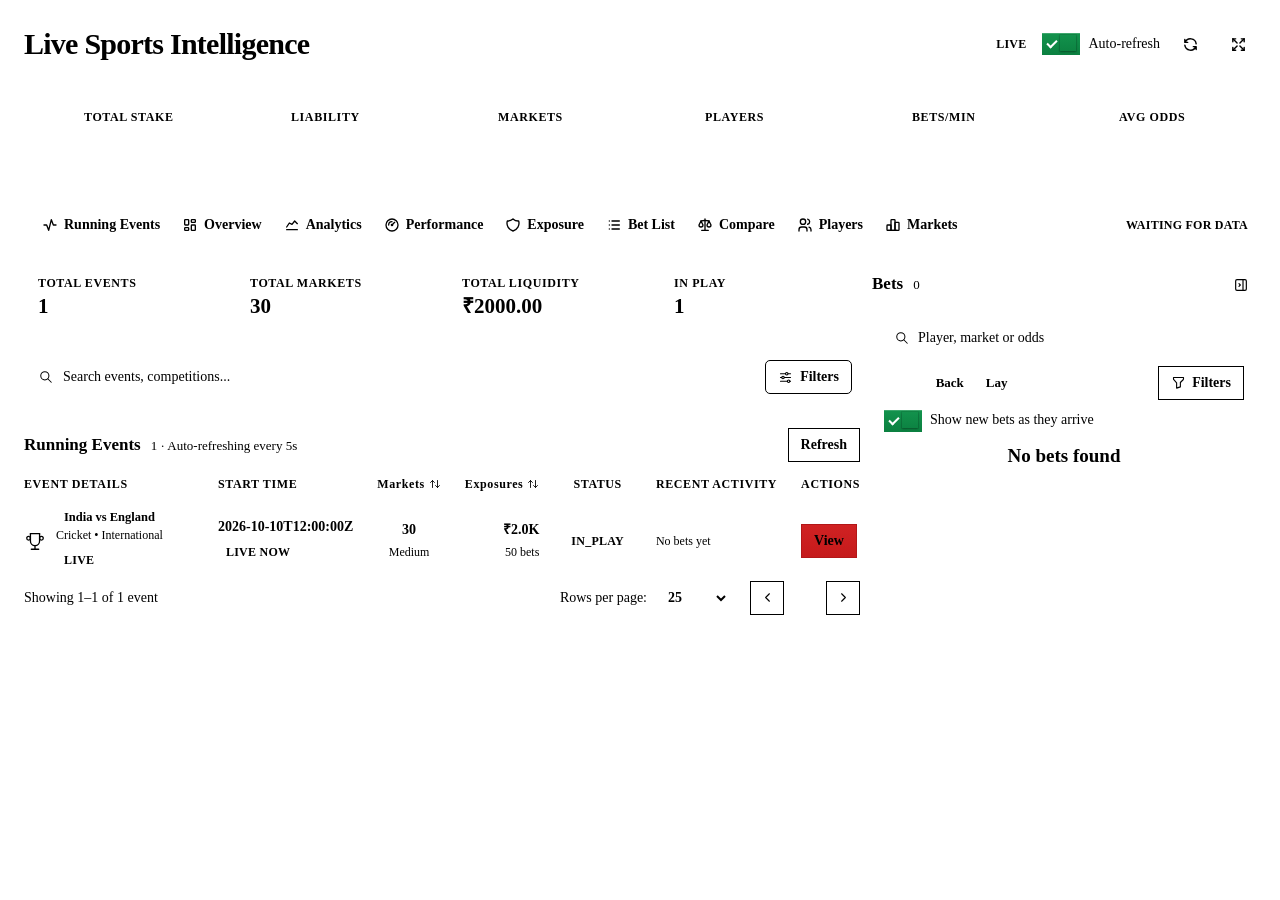
Test: all four independent lists can load and switch before the dashboard subscription arrives
Later steps or results of the test are not shown.
Step 1. Click the tab "Running Events" → (101, 224), box [32,202,170,246]
Expected: the table named "Running Events" is shown, [24,468,860,581]
Step 2. Click the tab "Players" → (830, 224), box [787,202,873,246]
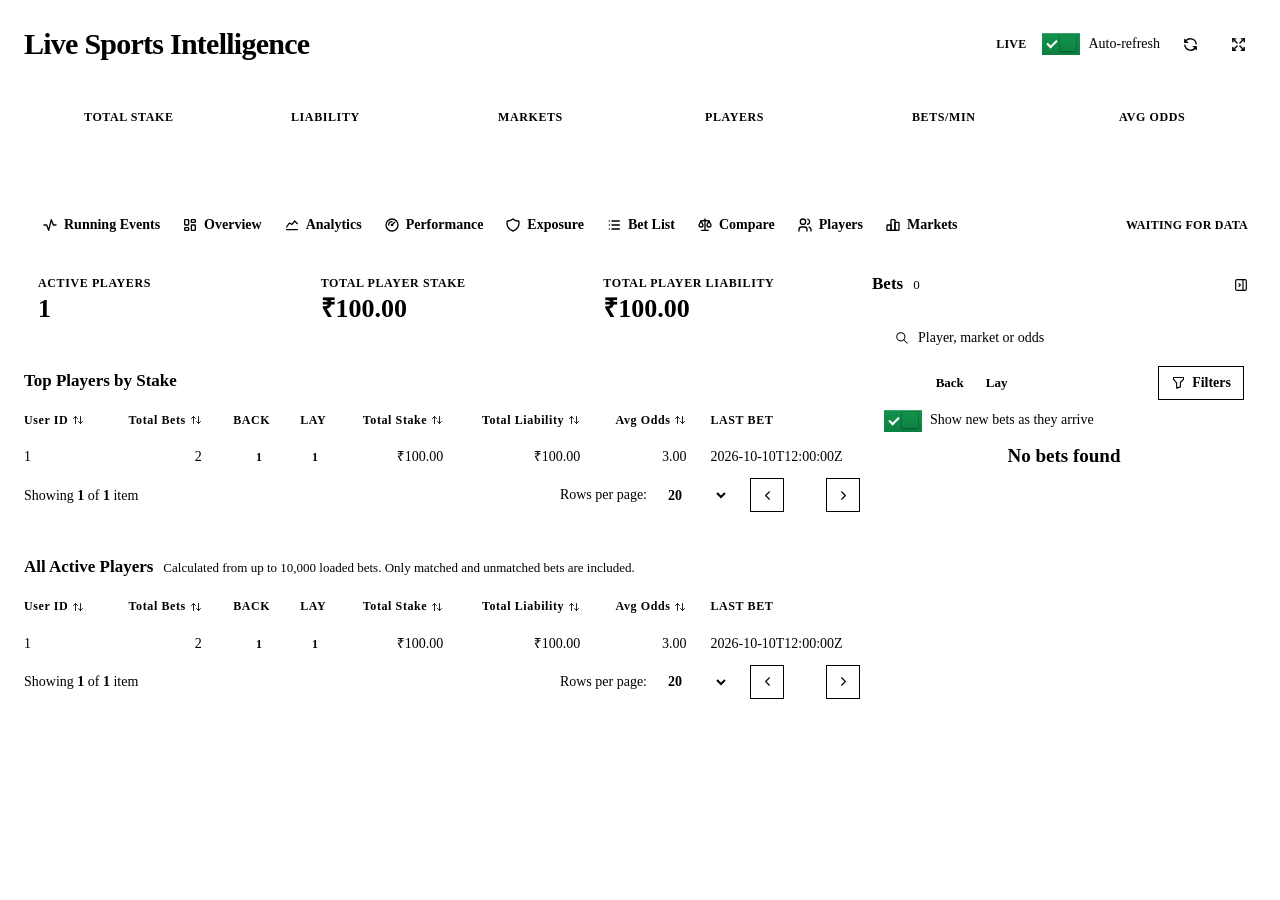
Now the table named "All Active Players" is shown, box [24,590,860,665]
Step 3. Click the tab "Markets" → (921, 224), box [875,202,968,246]
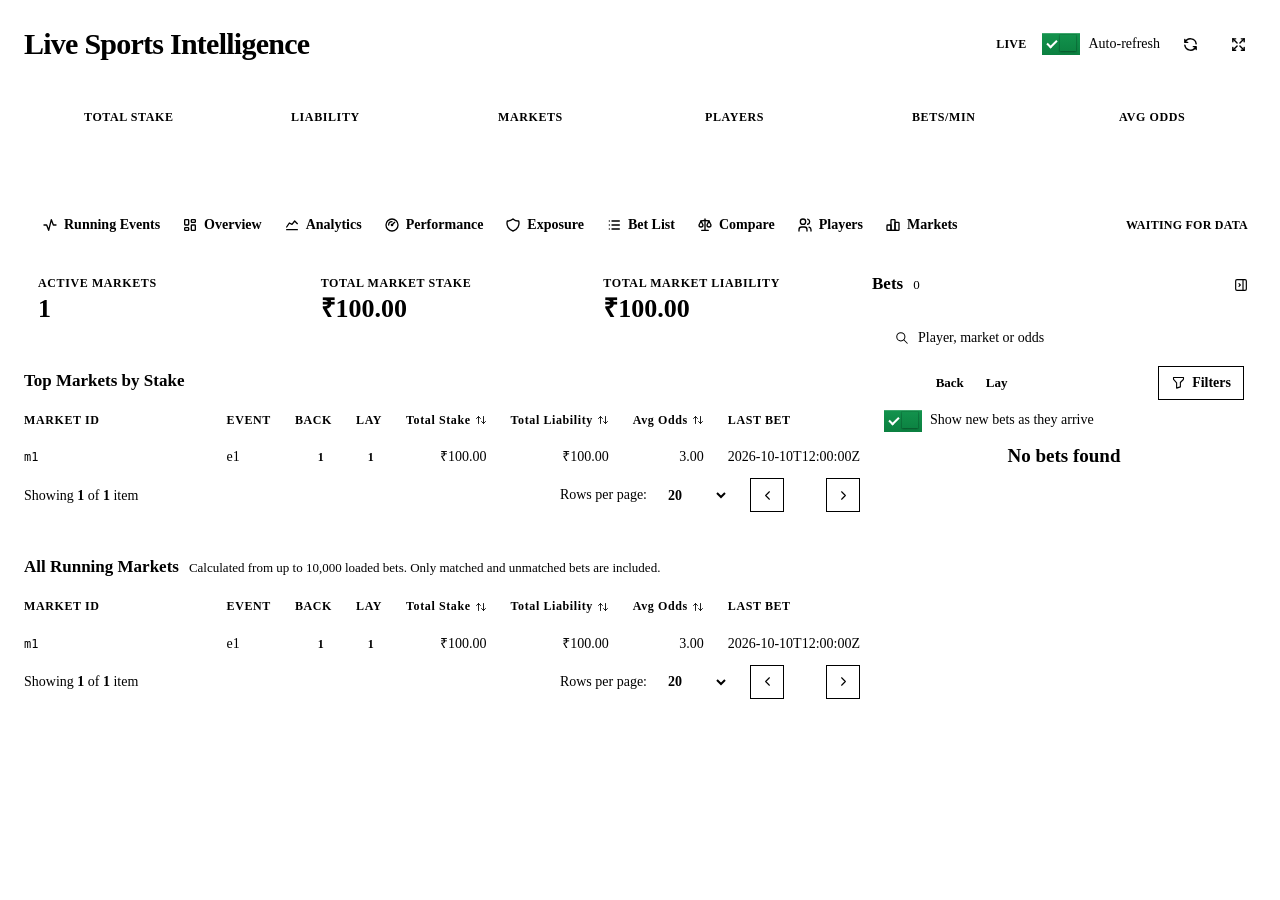
Now the table named "All Running Markets" is shown, box [24,590,860,665]
Step 4. Click the tab "Bet List" → (640, 224), box [596,202,685,246]
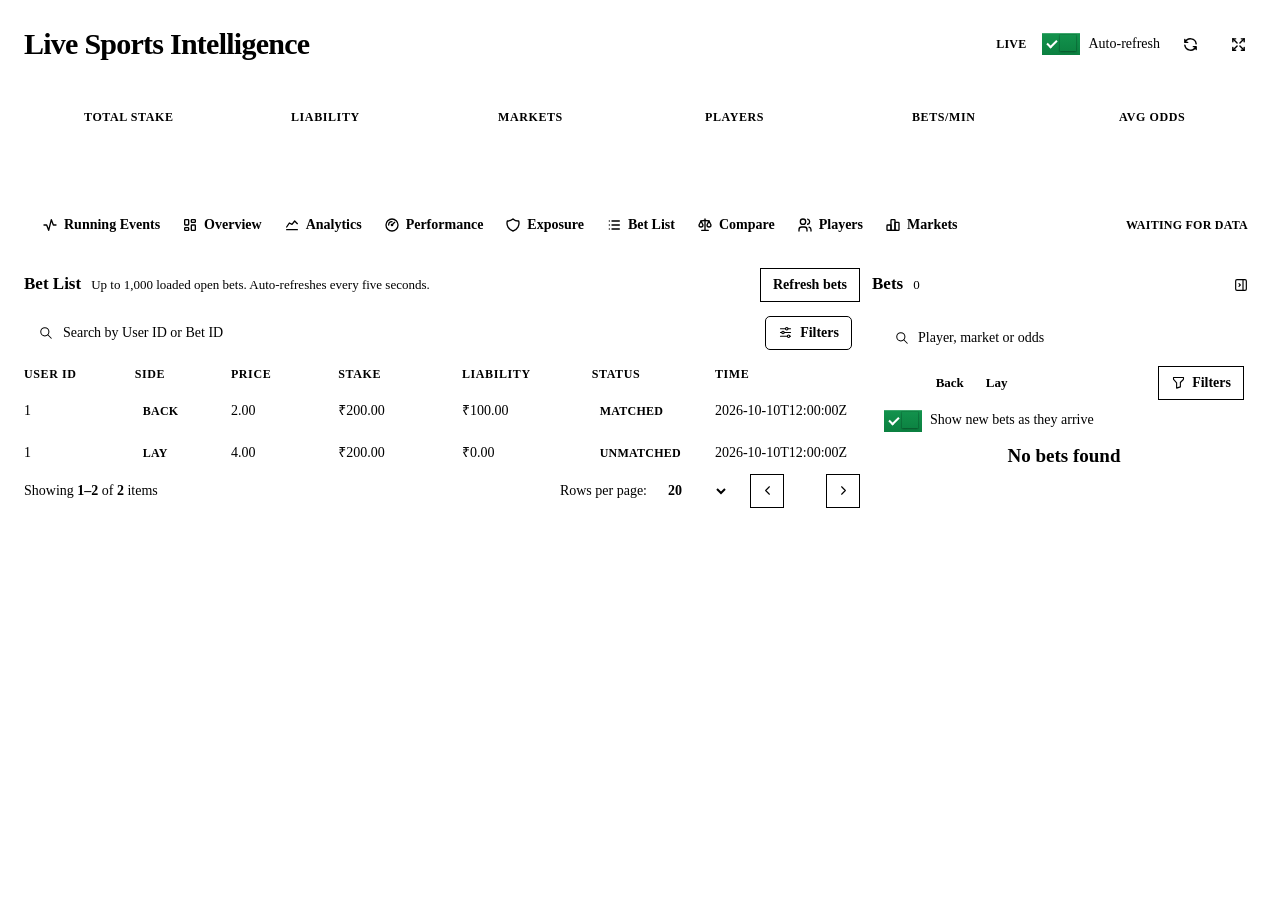
Now the table named "Bet List" is shown, box [24,358,860,474]
